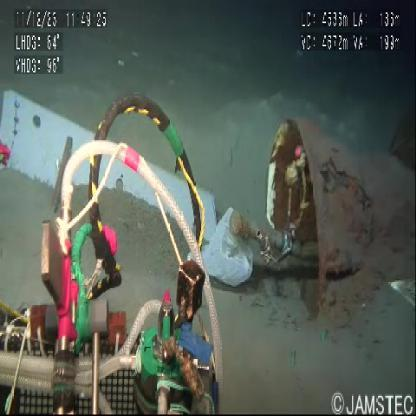Rác: (204, 225, 255, 289)
